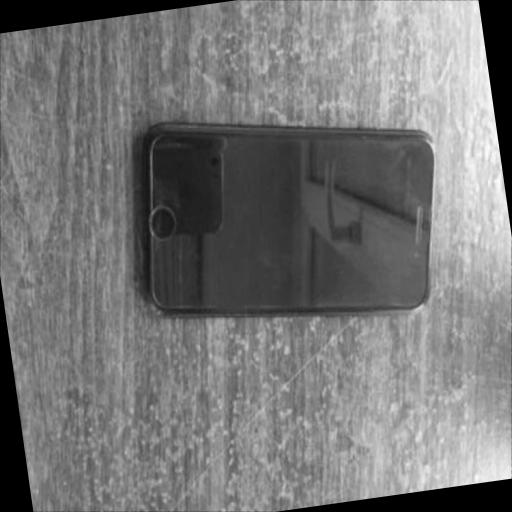phone: (150, 124, 447, 316)
